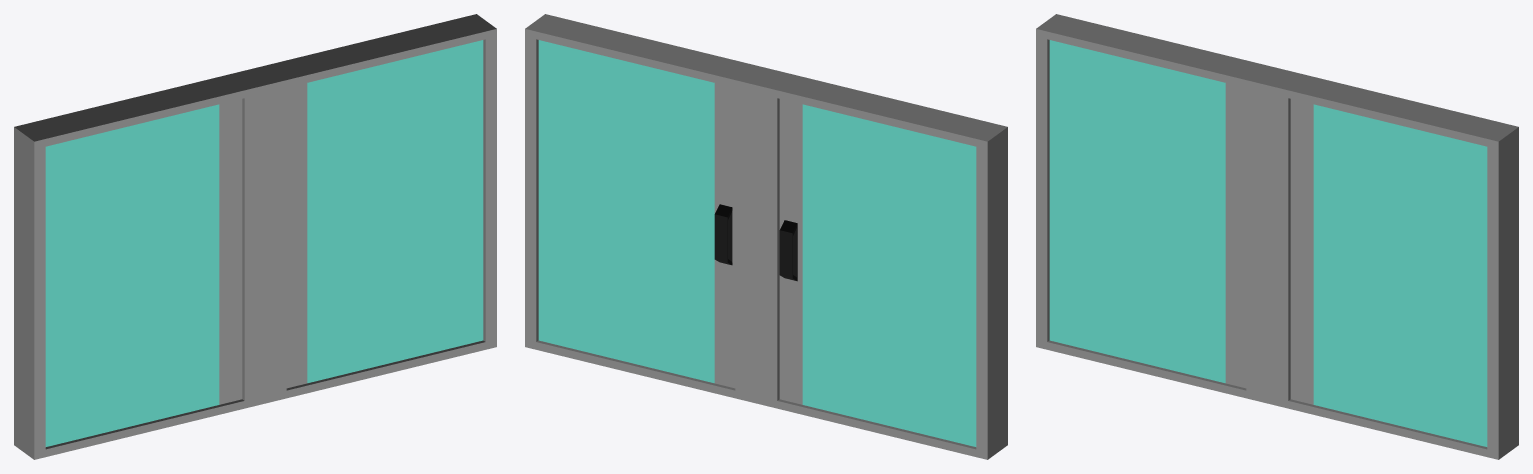
The model's file is Window 12.fbx.
3 views of the same model, side by side, from view 1: azimuth 30°, elevation 25°; view 2: azimuth 150°, elevation 25°; view 3: azimuth 330°, elevation 25° (orthographic).
Parts seen in each view (by area): view 1: Node 2, Node 1, Node 0; view 2: Node 2, Node 1, Node 0; view 3: Node 1, Node 2, Node 0.
Boxes of the visible parts, x1,y1,x2,y2 form: Node 2: (286,40,483,388); Node 1: (45,99,242,446); Node 0: (14,14,496,459); Node 2: (538,40,735,388); Node 1: (779,99,976,446); Node 0: (525,14,1007,459); Node 1: (1049,40,1246,388); Node 2: (1290,99,1487,446); Node 0: (1036,14,1518,459).
Size of the model in its own units: 0.1787 by 1.37 by 2.08.
